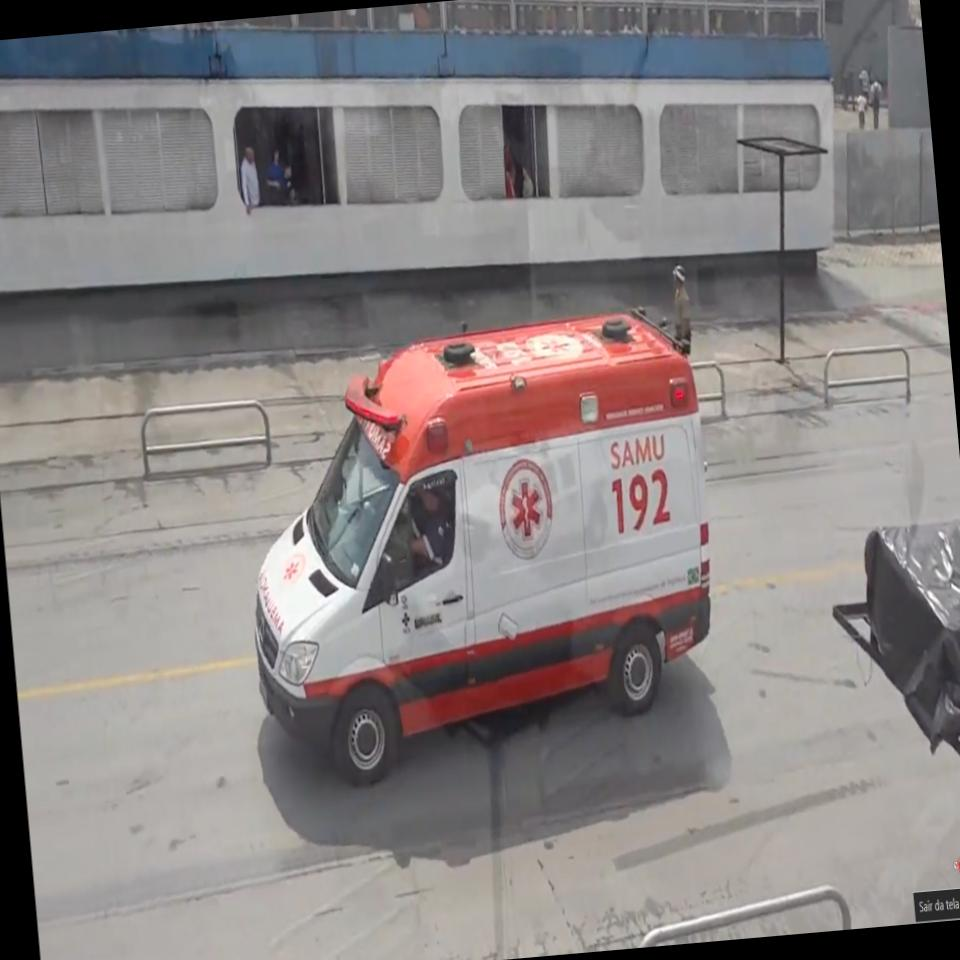bombeiro: (230, 300, 731, 794)
